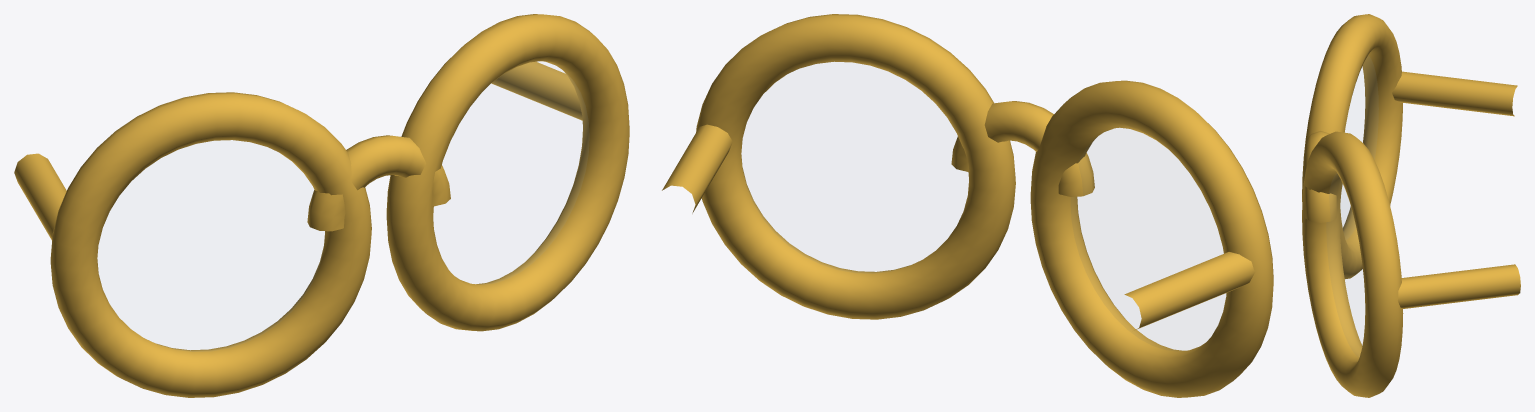
File: glasses.b153f7ce.glb
The picture shows the model from 3 angles, left to right: view 1: azimuth 30°, elevation 25°; view 2: azimuth 150°, elevation 25°; view 3: azimuth 270°, elevation 25°; orthographic projection. The views are drawn at different scales.
Parts seen in each view (by area): view 1: glasses; view 2: glasses; view 3: glasses.
Part boxes in pixels (x1=…): glasses: x1=14, y1=14, x2=629, y2=397; glasses: x1=662, y1=14, x2=1273, y2=397; glasses: x1=1302, y1=14, x2=1520, y2=397.
Bounding box in the file's own units: 0.935 × 0.468 × 0.3815.
